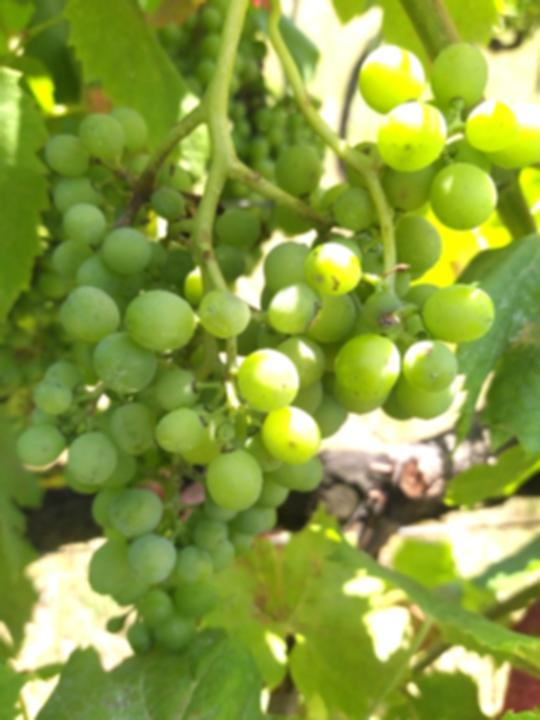grape: (9, 34, 540, 660)
